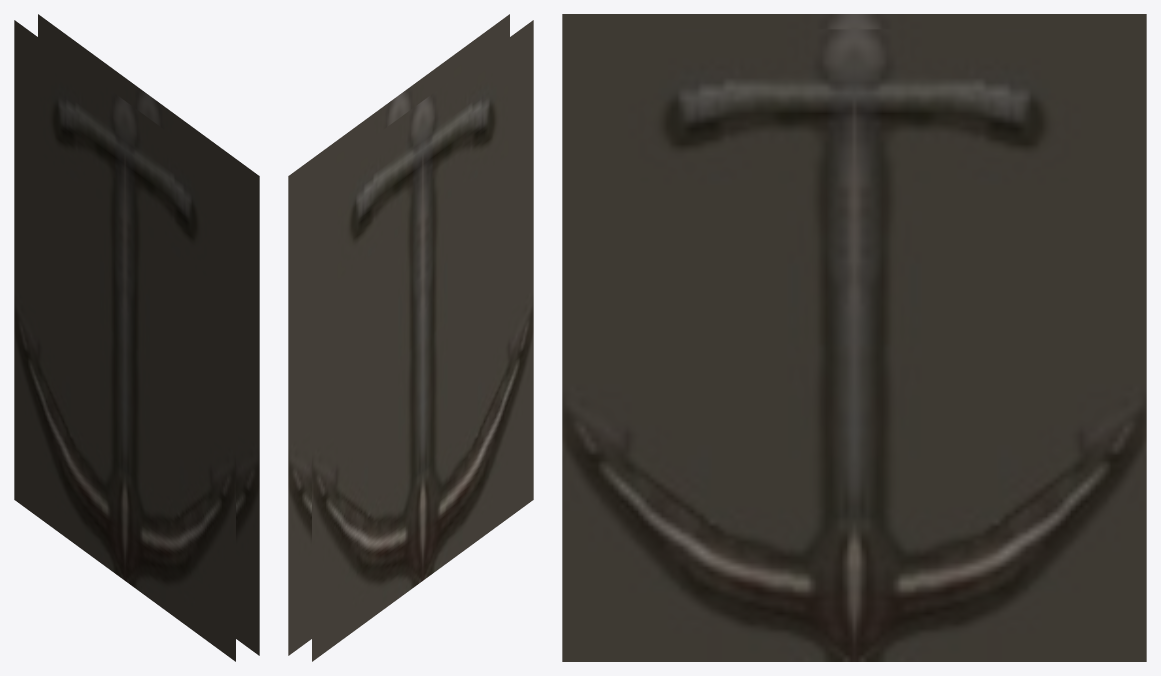
Rendered from sign1_eng_b_icon_shipwright.fbx.
3 renders of one model, left to right at view 1: azimuth 30°, elevation 25°; view 2: azimuth 150°, elevation 25°; view 3: azimuth 270°, elevation 25°, orthographic. The views are drawn at different scales.
Parts seen in each view (by area): view 1: icons; view 2: icons; view 3: icons.
Boxes of the visible parts, x1,y1,x2,y2 form: icons: (14,14,259,661); icons: (288,14,533,661); icons: (562,14,1146,661).
Bounding box in the file's own units: 16.67 × 321 × 269.
1 material, 1 textured.
